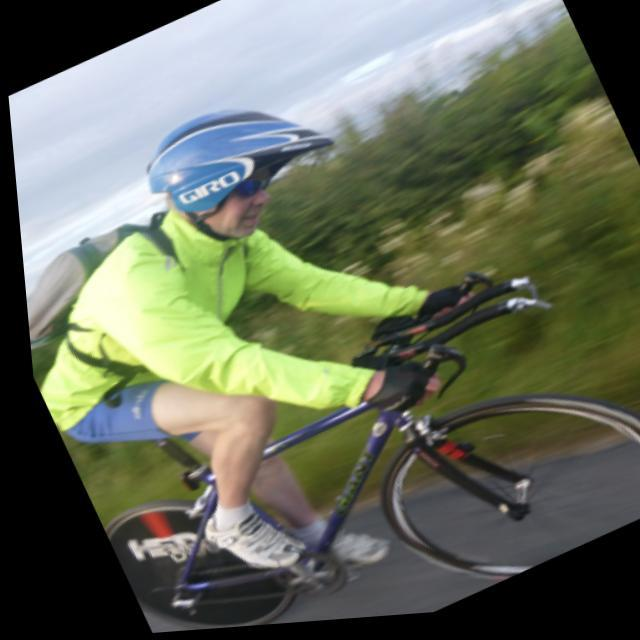Helmet: (143, 105, 335, 244)
